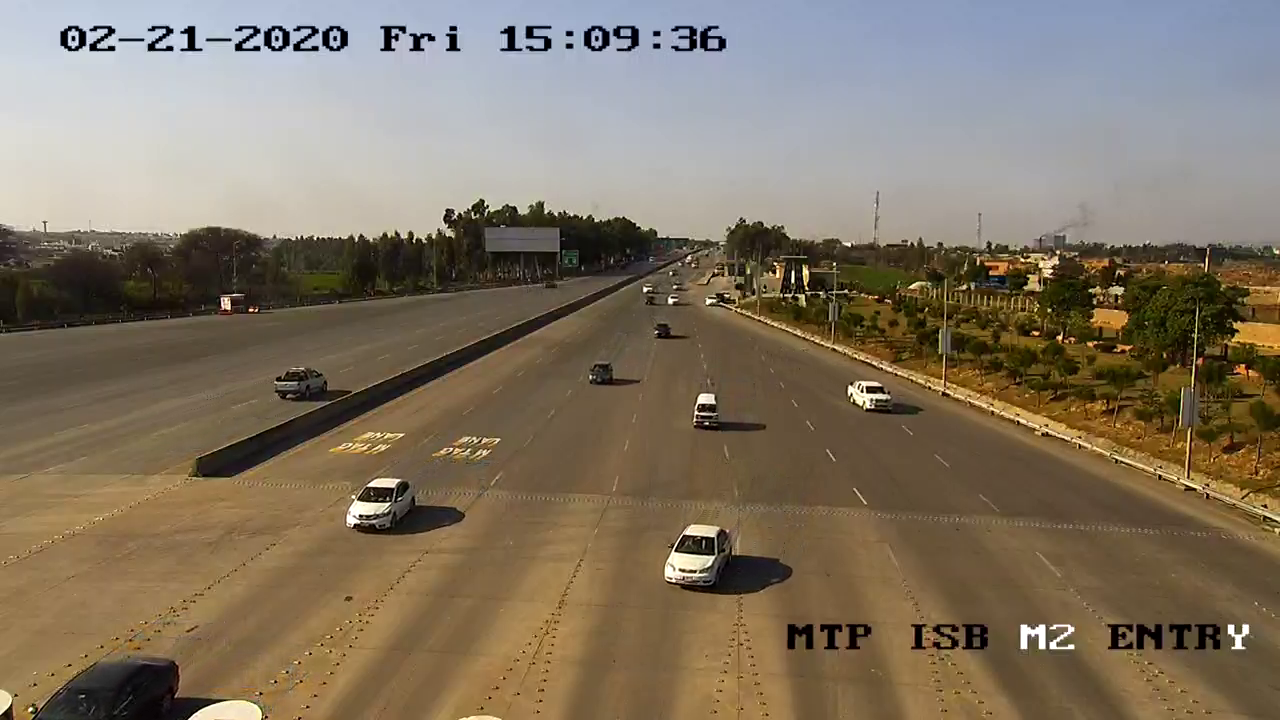f1: (659, 515, 739, 599), (340, 468, 424, 538), (842, 371, 897, 418), (686, 388, 726, 434)
